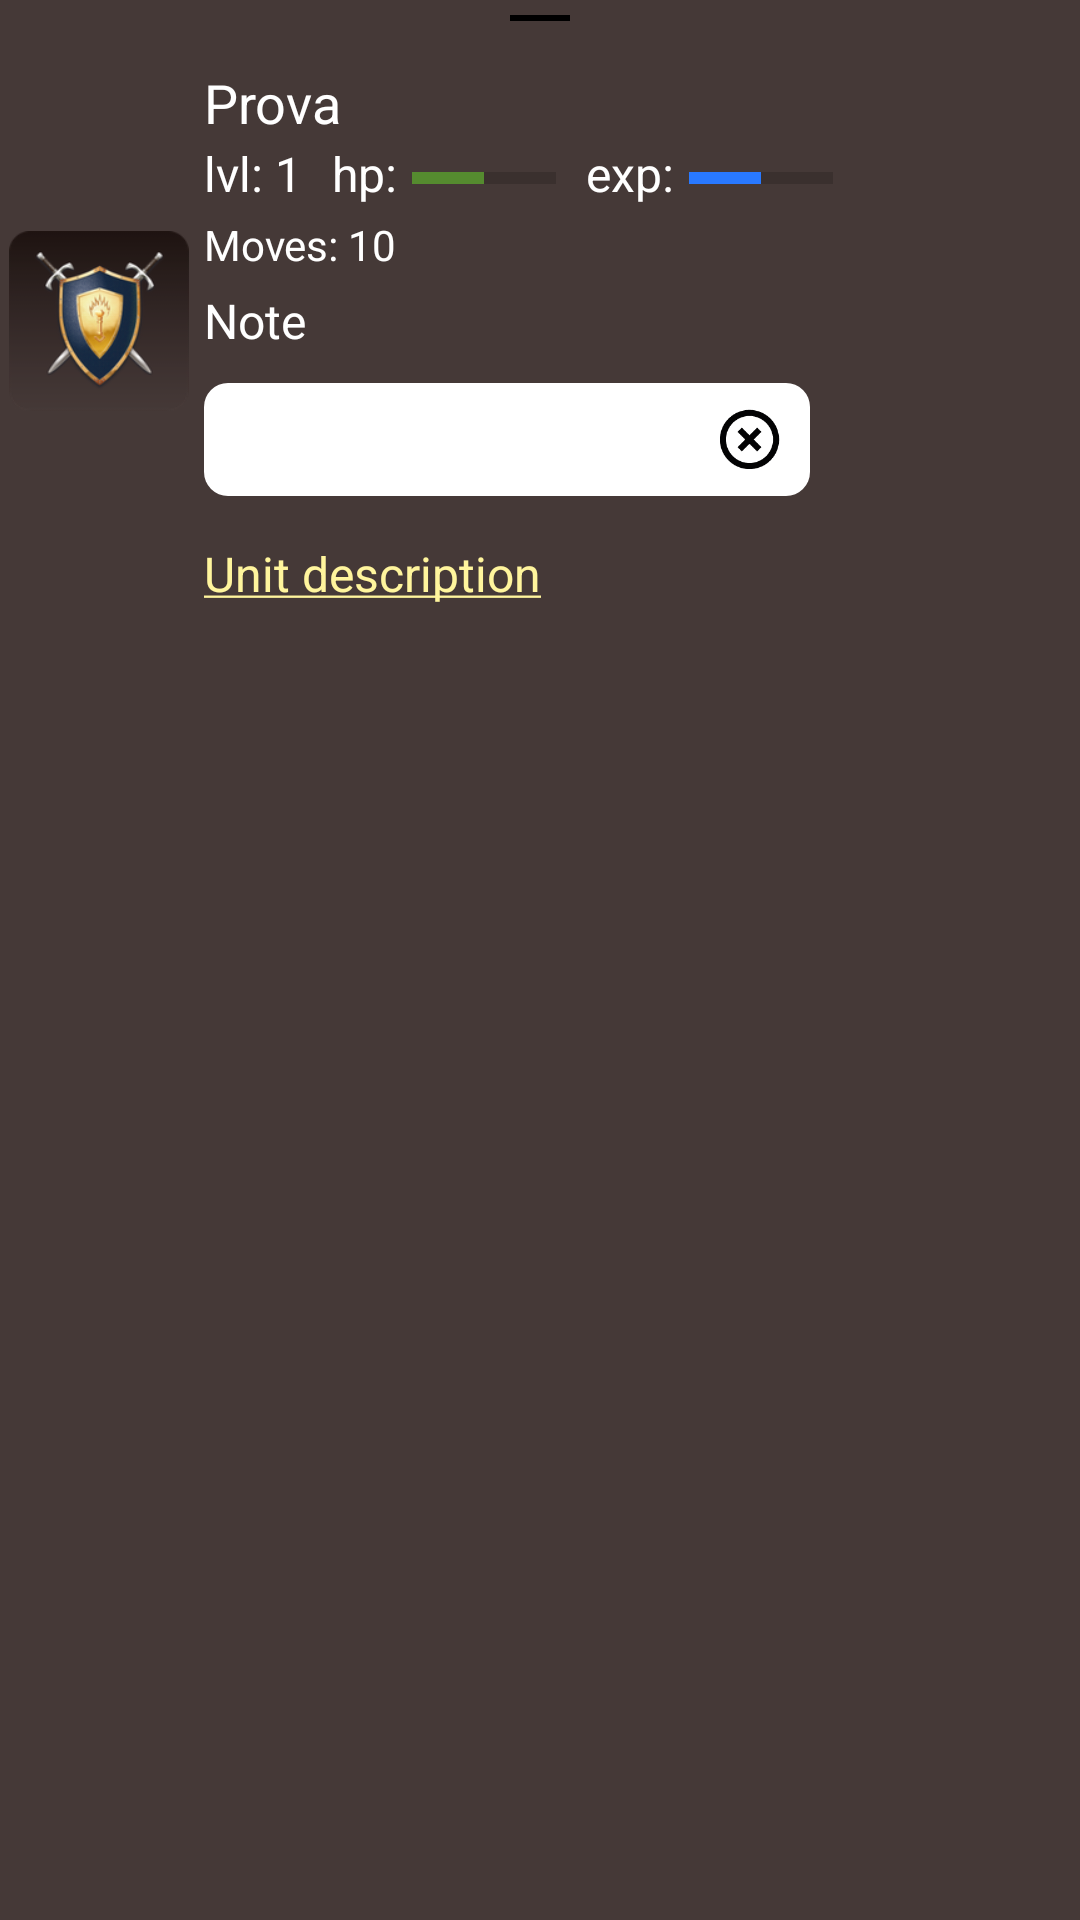

Point at icon controls on the screen. Image size 1080*1920, points as (x,y).
clear: (750,439)
